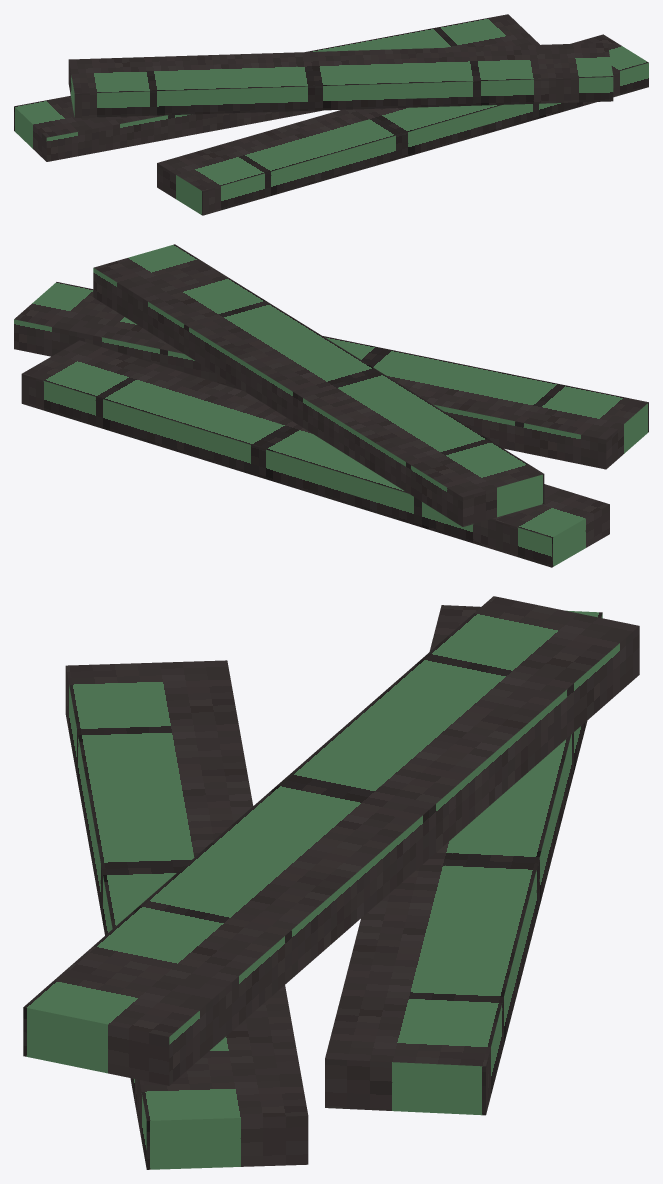
File: planks.glb
3 views of the same model, one above another, from view 1: azimuth 30°, elevation 25°; view 2: azimuth 150°, elevation 25°; view 3: azimuth 270°, elevation 25° (orthographic). The views are drawn at different scales.
Parts seen in each view (by area): view 1: planks; view 2: planks; view 3: planks.
Boxes of the visible parts, x1=… form: planks: x1=14, y1=14, x2=648, y2=215; planks: x1=14, y1=244, x2=648, y2=567; planks: x1=23, y1=596, x2=639, y2=1169.
Bounding box in the file's own units: 1.13 × 0.1 × 0.5703.
Materials: 1 (1 with a texture image).
